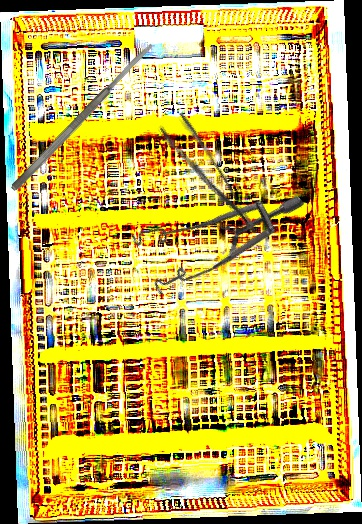Dressing Forceps: (156, 110, 261, 249)
Spatula Surgical: (8, 40, 158, 193)
Speculum: (113, 130, 307, 329)
